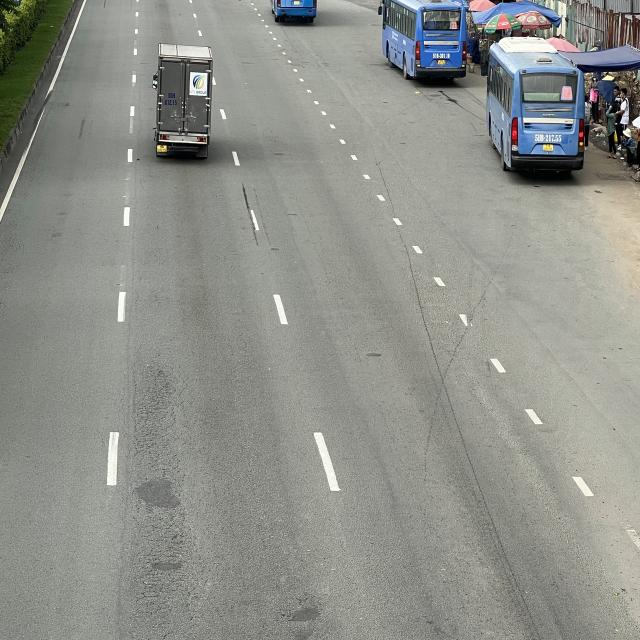coach: (485, 38, 586, 177), (377, 0, 467, 83)
truck: (152, 46, 214, 159)
